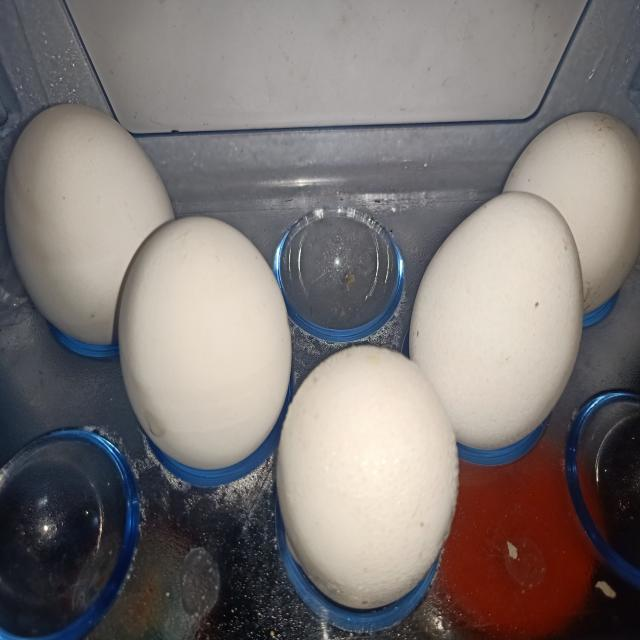Egg: (277, 346, 459, 609), (410, 191, 584, 450), (118, 216, 291, 470), (4, 103, 173, 345), (504, 111, 640, 313)
